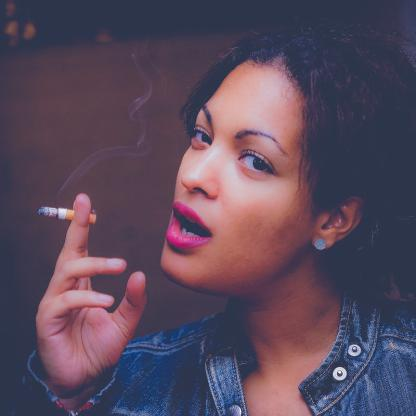smoking: (39, 206, 97, 225)
